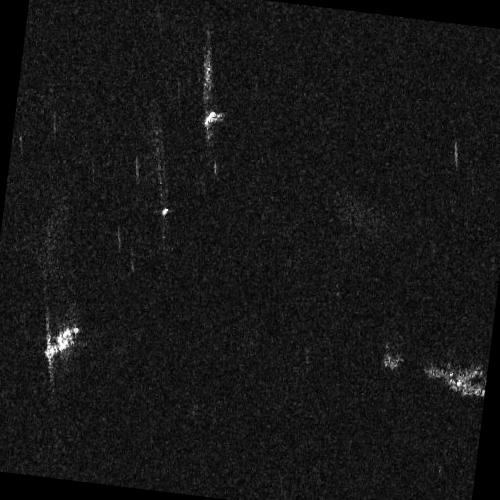ship: (42, 326, 79, 360), (203, 111, 216, 127), (160, 206, 168, 217)
